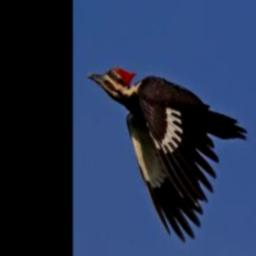Woodpecker: (88, 66, 248, 242)
